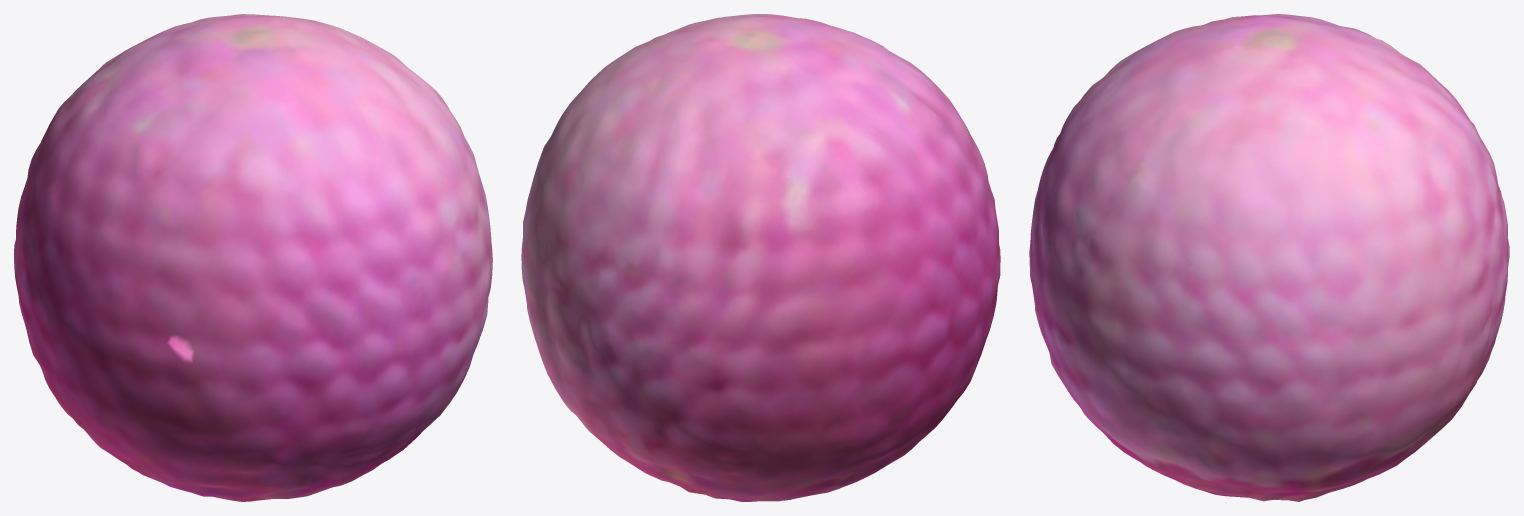
Rendered from pinkgumball.fbx.
The picture shows the model from 3 angles, left to right: view 1: azimuth 30°, elevation 25°; view 2: azimuth 150°, elevation 25°; view 3: azimuth 270°, elevation 25°; orthographic projection.
Parts seen in each view (by area): view 1: Mesh1; view 2: Mesh1; view 3: Mesh1.
Part boxes in pixels (left/top/right/bottom): Mesh1: left=14, top=14, right=492, bottom=501; Mesh1: left=521, top=14, right=1000, bottom=501; Mesh1: left=1029, top=14, right=1509, bottom=501.
Bounding box in the file's own units: 116 × 120 × 117.
1 material, 1 textured.
